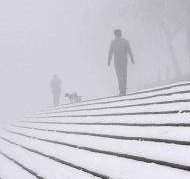person: (106, 27, 136, 97), (48, 71, 63, 106)
